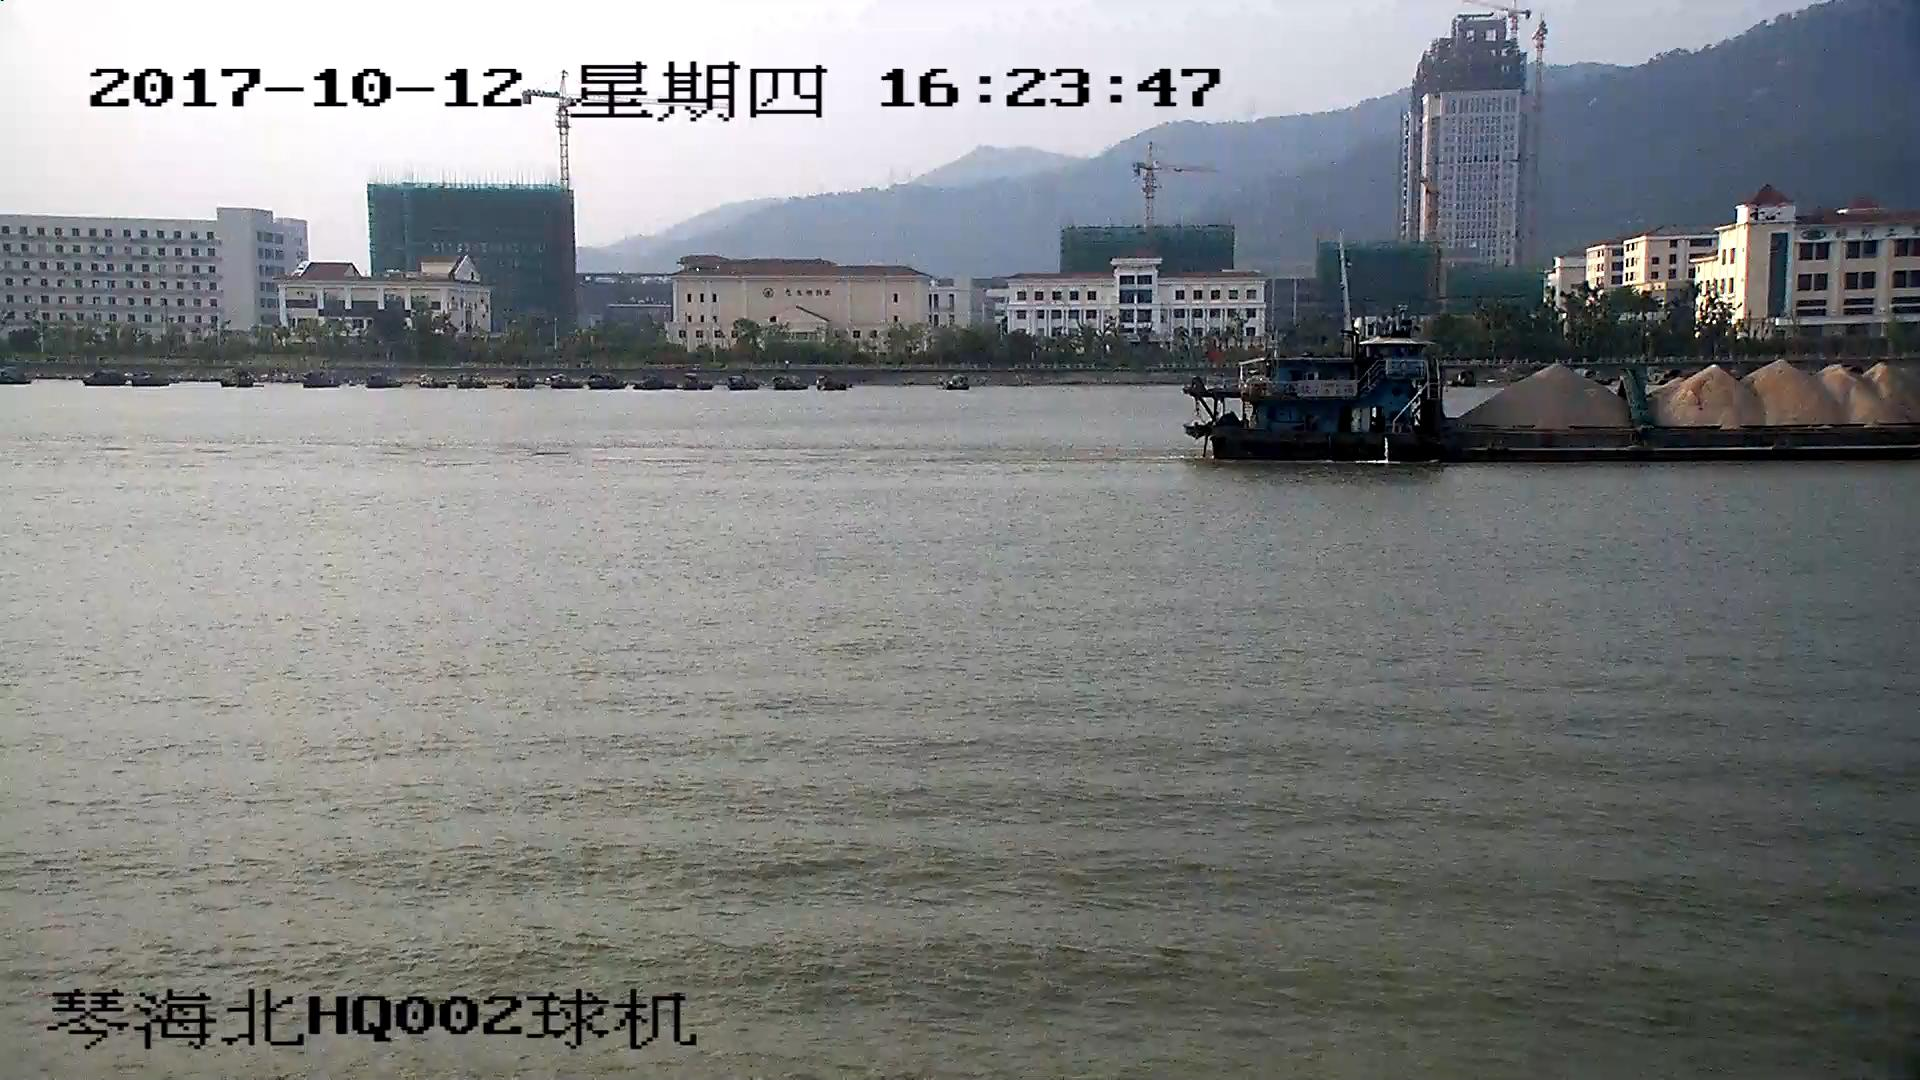ore carrier: (1187, 334, 1920, 465)
